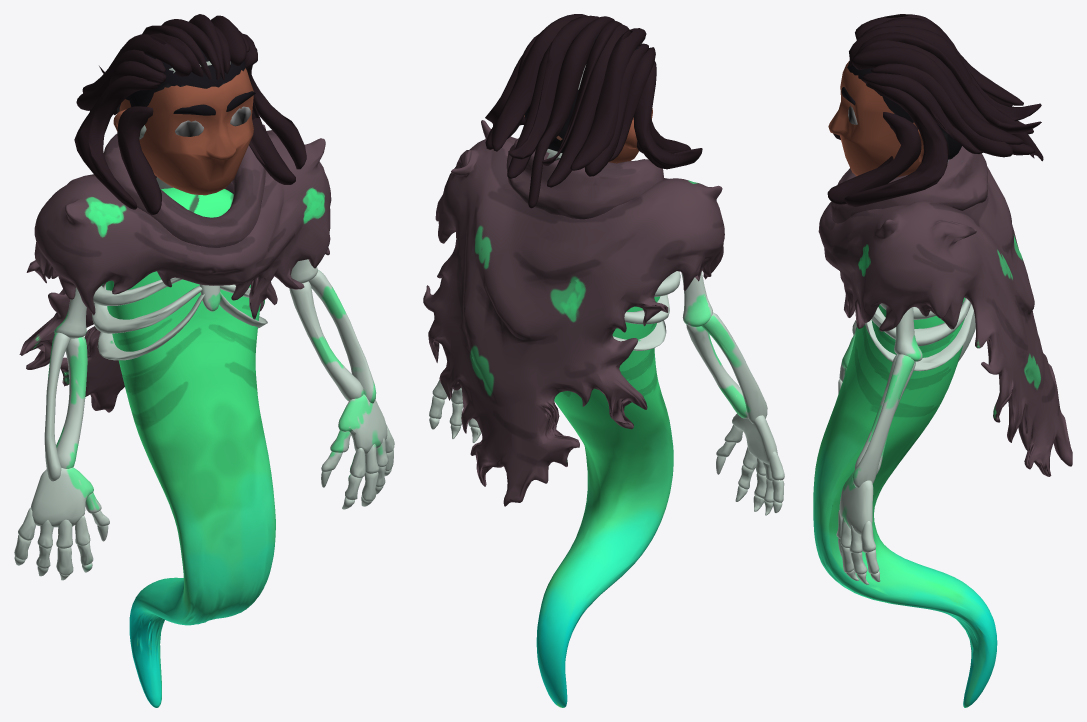
The model's file is The Flow Ghost.fbx.
The picture shows the model from 3 angles, left to right: view 1: azimuth 30°, elevation 25°; view 2: azimuth 150°, elevation 25°; view 3: azimuth 270°, elevation 25°; orthographic projection. The views are drawn at different scales.
Parts seen in each view (by area): view 1: PolySphere_1, PM3D_Sphere3D1_3, PM3D_Sphere3D1_7; view 2: PolySphere_1, PM3D_Sphere3D1_3, PM3D_Sphere3D1_7; view 3: PolySphere_1, PM3D_Sphere3D1_3, PM3D_Sphere3D1_7.
Boxes of the visible parts, <box> form: PolySphere_1: <box>14,124,394,707</box>; PM3D_Sphere3D1_3: <box>74,14,306,214</box>; PM3D_Sphere3D1_7: <box>113,46,255,195</box>; PolySphere_1: <box>423,120,784,707</box>; PM3D_Sphere3D1_3: <box>485,14,702,208</box>; PM3D_Sphere3D1_7: <box>524,31,652,163</box>; PolySphere_1: <box>813,146,1072,707</box>; PM3D_Sphere3D1_3: <box>827,14,1043,206</box>; PM3D_Sphere3D1_7: <box>828,60,961,177</box>.
Bounding box in the file's own units: 434 × 778 × 269.
